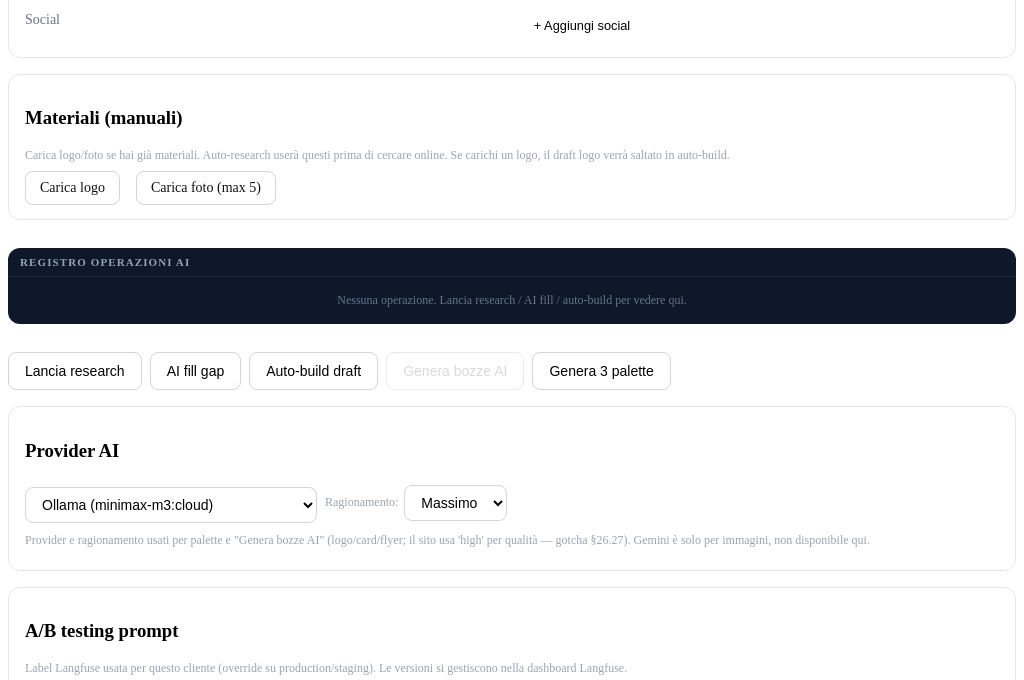
TB-027 CustomerDetail › log AI panel appare e si popola dopo azione
(page scrolled)
Expected: the element with test id "crm-ai-log" is shown, top-left (8, 248), bottom-right (1016, 324)
Expected: the text "Nessuna operazione" is shown, top-left (337, 293), bottom-right (687, 307)
What coordinates should you click on to do the following:
click the button with test id "crm-research-btn"
I would click on:
 (75, 371)
Its box is top-left (8, 352), bottom-right (142, 390).
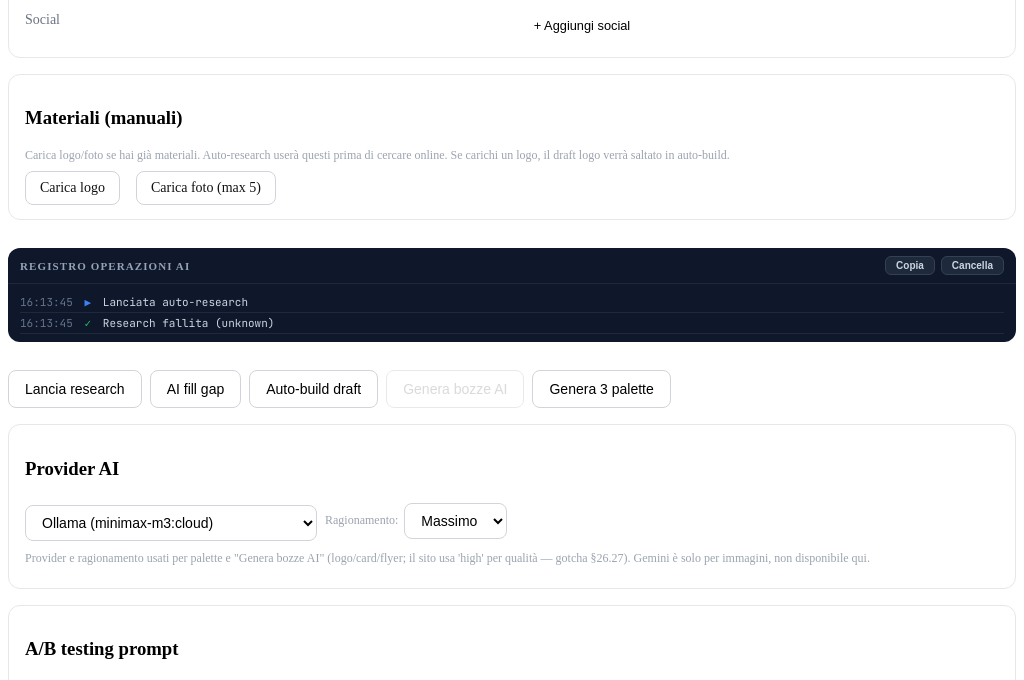
Expected: the text "Lanciata auto-research" is shown, top-left (103, 295), bottom-right (248, 309)
